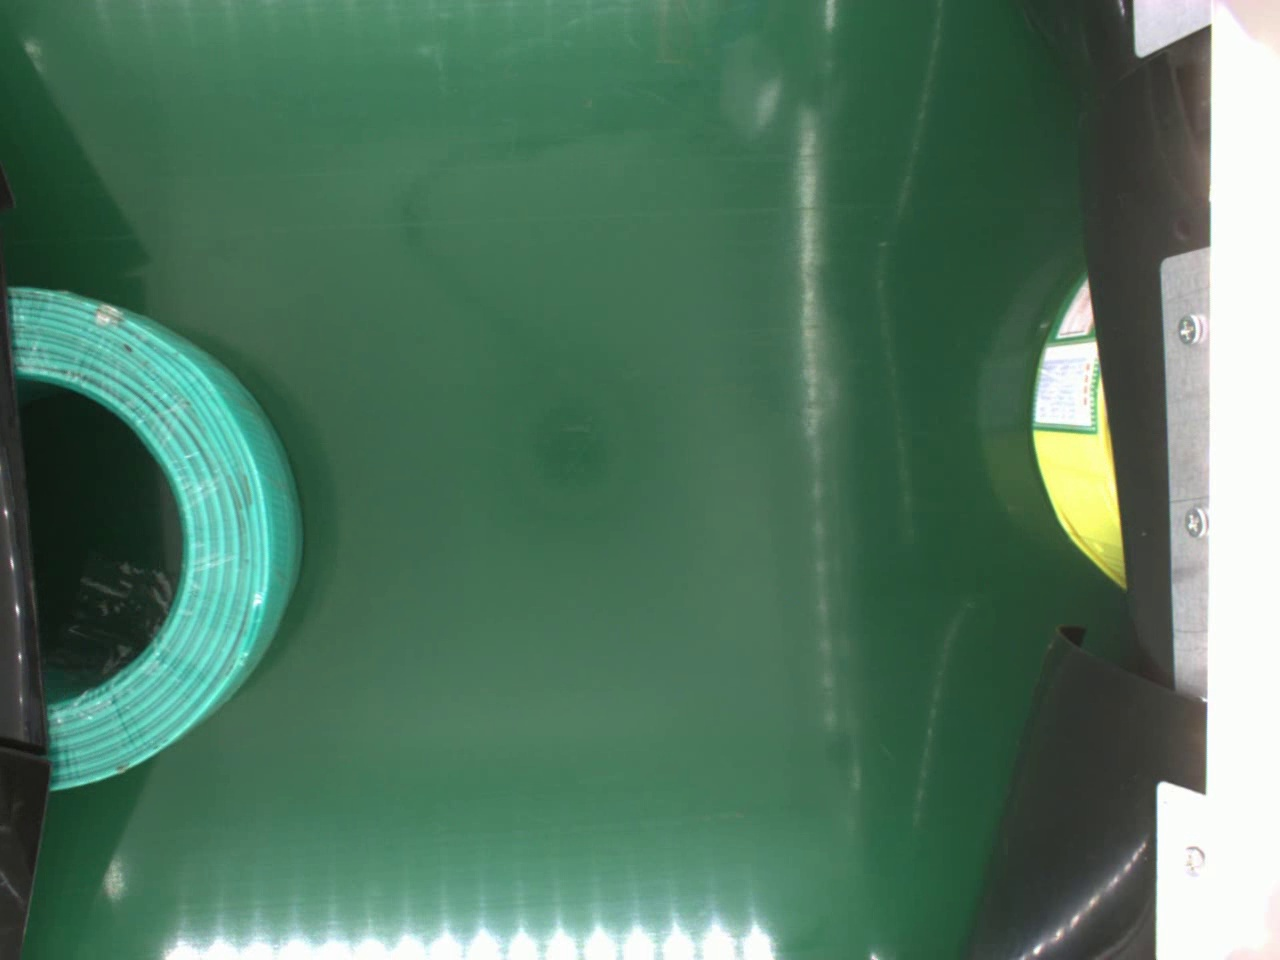green: (6, 281, 310, 790)
